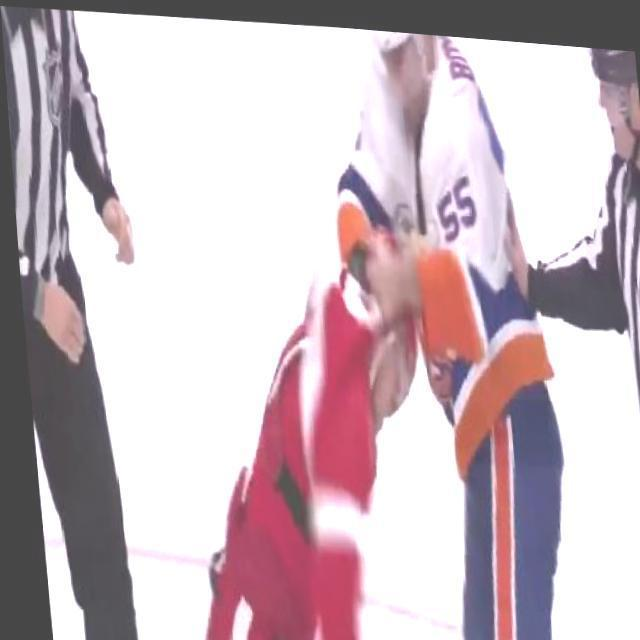fight: (146, 9, 571, 640)
